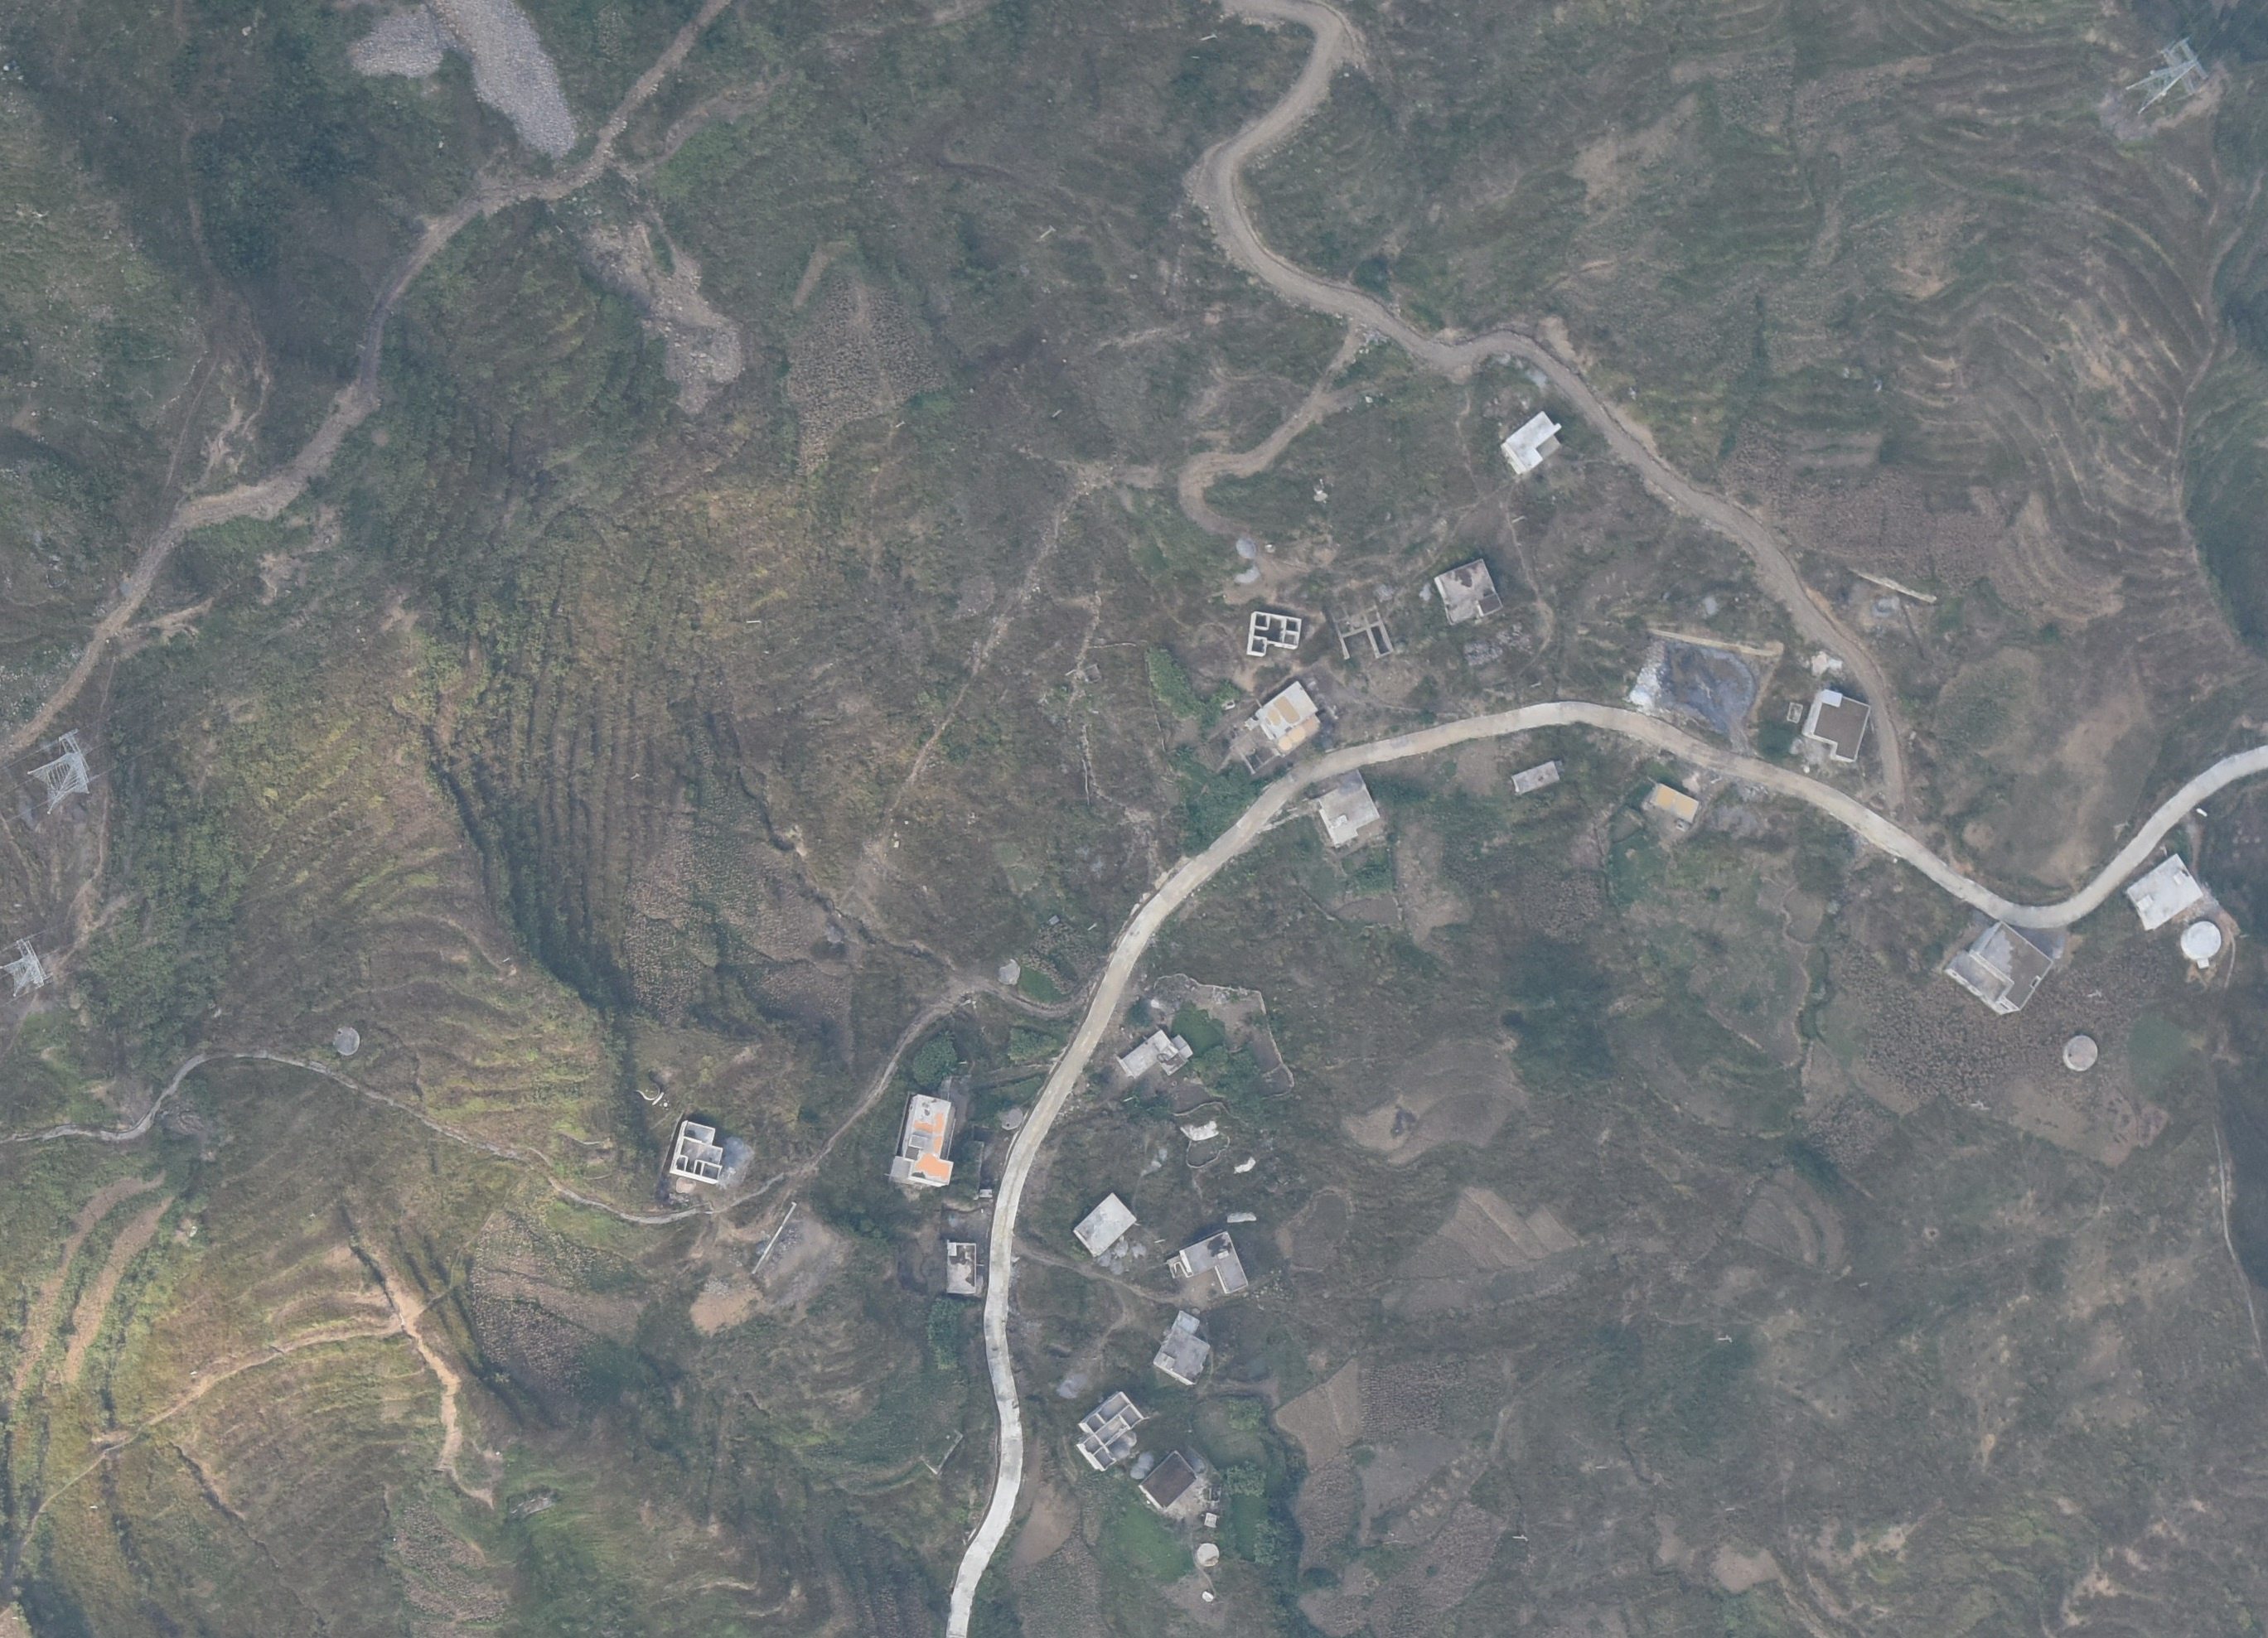building: (1944, 923, 2051, 1018), (886, 1092, 956, 1191), (2125, 852, 2203, 932), (1076, 1391, 1141, 1471), (1171, 1233, 1252, 1295), (1807, 689, 1870, 763), (1437, 557, 1504, 625), (1257, 680, 1322, 750), (1500, 409, 1565, 476), (1155, 1309, 1211, 1383), (1315, 784, 1382, 844), (1072, 1192, 1134, 1256), (1120, 1027, 1192, 1076), (1136, 1450, 1194, 1509), (673, 1120, 722, 1180), (1243, 611, 1301, 657), (1645, 782, 1697, 823), (944, 1242, 976, 1295), (1513, 761, 1562, 793), (1204, 1511, 1219, 1527), (1210, 1488, 1222, 1502)
cable-tower: (2127, 39, 2212, 122), (28, 727, 95, 817), (2, 939, 48, 999)
quarry: (1631, 636, 1764, 745)
well: (2183, 921, 2226, 965), (2062, 1034, 2101, 1071), (997, 1103, 1025, 1131), (335, 1027, 361, 1055), (995, 956, 1020, 986), (1197, 1541, 1222, 1569)
